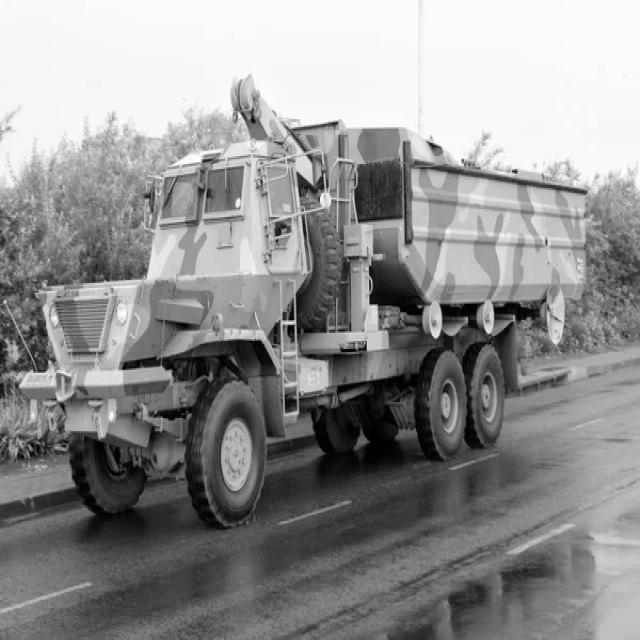Truck: (19, 76, 587, 526)
